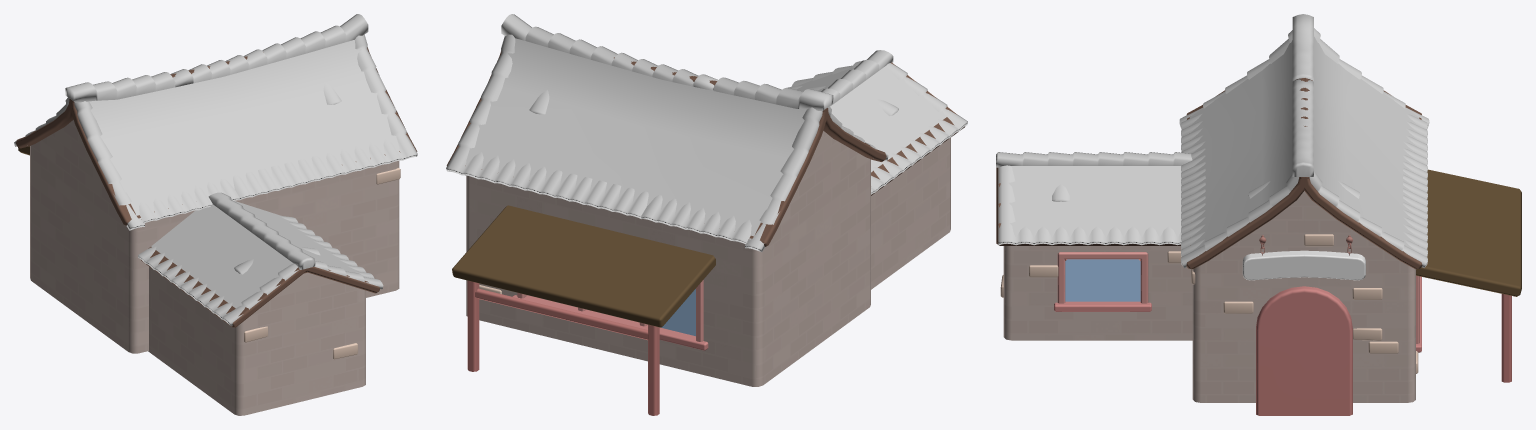
The picture shows the model from 3 angles, left to right: view 1: azimuth 30°, elevation 25°; view 2: azimuth 150°, elevation 25°; view 3: azimuth 270°, elevation 25°; orthographic projection. The views are drawn at different scales.
Parts seen in each view (by area): view 1: PO, Bedroom, Bricks; view 2: PO, Shelter, Bedroom, PO_Window; view 3: PO, Bedroom, Shelter, Sign_Curved, Bedroom_Window, Bricks.
Part boxes in pixels (x1,y1,x2,y2): PO: (14,14,417,353); Bedroom: (138,192,383,415); Bricks: (244,168,400,359); PO: (446,14,888,386); Shelter: (452,205,715,415); Bedroom: (787,50,967,289); PO_Window: (661,289,695,336); PO: (1179,14,1429,415); Bedroom: (996,152,1192,340); Shelter: (1416,169,1521,382); Sign_Curved: (1242,250,1365,280); Bedroom_Window: (1065,259,1140,301); Bricks: (1000,234,1418,373).
Size of the model in its own units: 932 by 737 by 1367.
